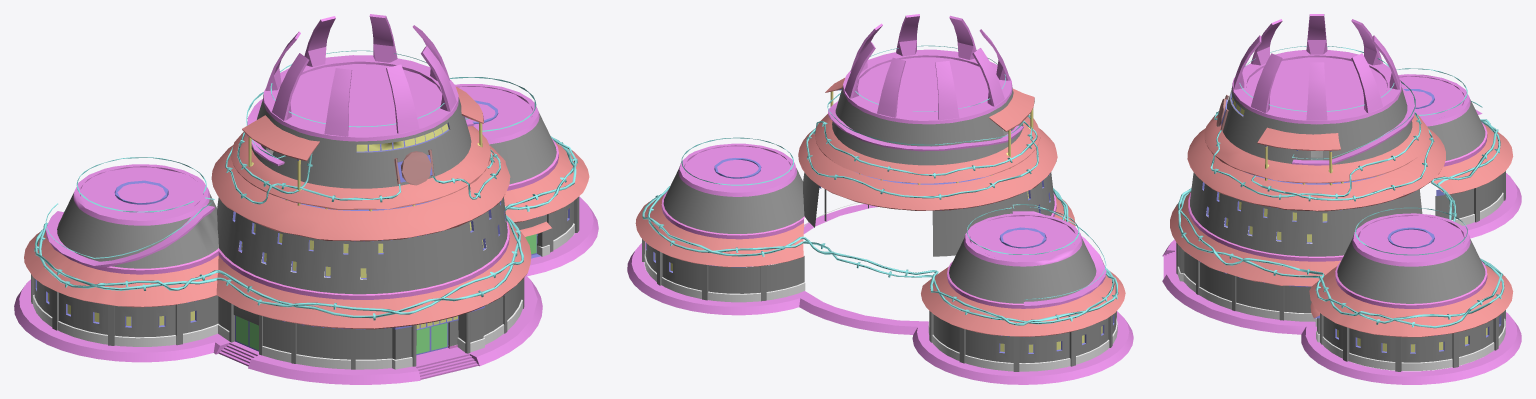
Rendered from SM_ENV_LKNVLD_Hokage_Lod2.gltf.
3 renders of one model, left to right at view 1: azimuth 30°, elevation 25°; view 2: azimuth 150°, elevation 25°; view 3: azimuth 270°, elevation 25°, orthographic. The views are drawn at different scales.
Visible parts, largest first — view 1: SM_ENV_LKNVLD_Hokage_Lod2; view 2: SM_ENV_LKNVLD_Hokage_Lod2; view 3: SM_ENV_LKNVLD_Hokage_Lod2.
Part boxes in pixels (box(x1,y1,x2,y2)): SM_ENV_LKNVLD_Hokage_Lod2: box(14, 14, 598, 384); SM_ENV_LKNVLD_Hokage_Lod2: box(627, 14, 1133, 384); SM_ENV_LKNVLD_Hokage_Lod2: box(1162, 14, 1521, 384).
Bounding box in the file's own units: 76.66 × 35.45 × 50.1.
